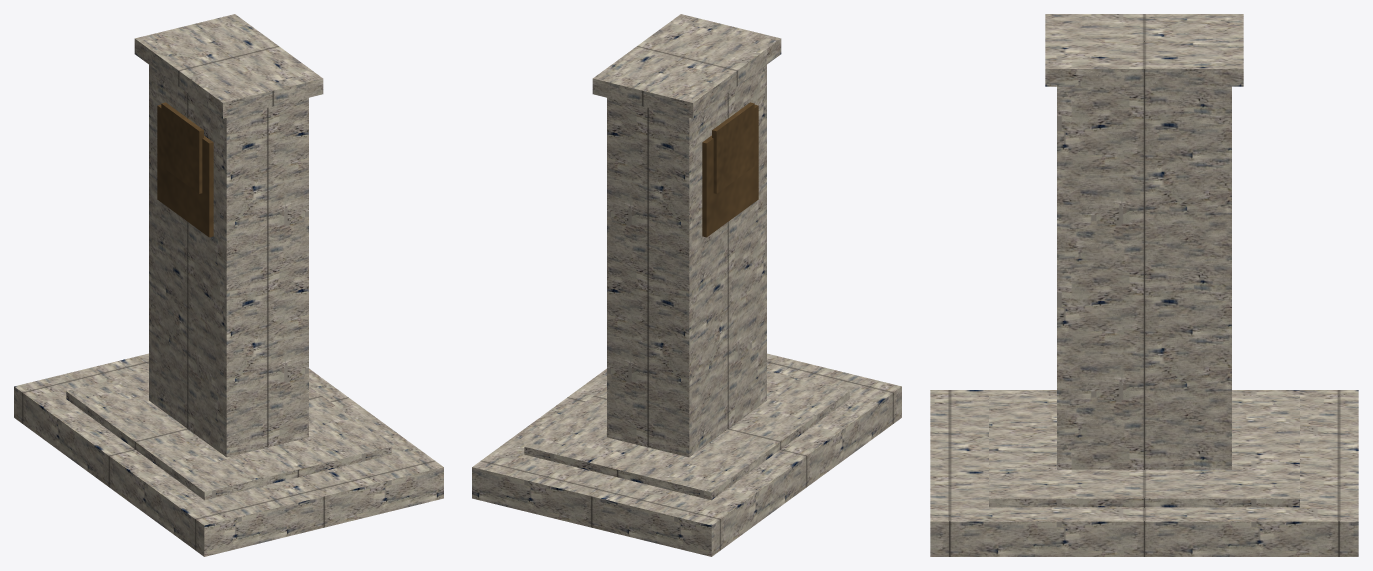
The model's file is SM_MoloItalia_MonumentoAlpini_LOD2.fbx.
3 views of the same model, side by side, from view 1: azimuth 30°, elevation 25°; view 2: azimuth 150°, elevation 25°; view 3: azimuth 270°, elevation 25° (orthographic). The views are drawn at different scales.
Parts seen in each view (by area): view 1: SM_MoloItalia_MonumentoAlpini_LOD2; view 2: SM_MoloItalia_MonumentoAlpini_LOD2; view 3: SM_MoloItalia_MonumentoAlpini_LOD2.
Boxes of the visible parts, <box> form: SM_MoloItalia_MonumentoAlpini_LOD2: <box>14,14,443,556</box>; SM_MoloItalia_MonumentoAlpini_LOD2: <box>472,14,901,556</box>; SM_MoloItalia_MonumentoAlpini_LOD2: <box>930,14,1358,556</box>.
Bounding box in the file's own units: 160 × 220 × 255.
Materials: 2 (2 with a texture image).
